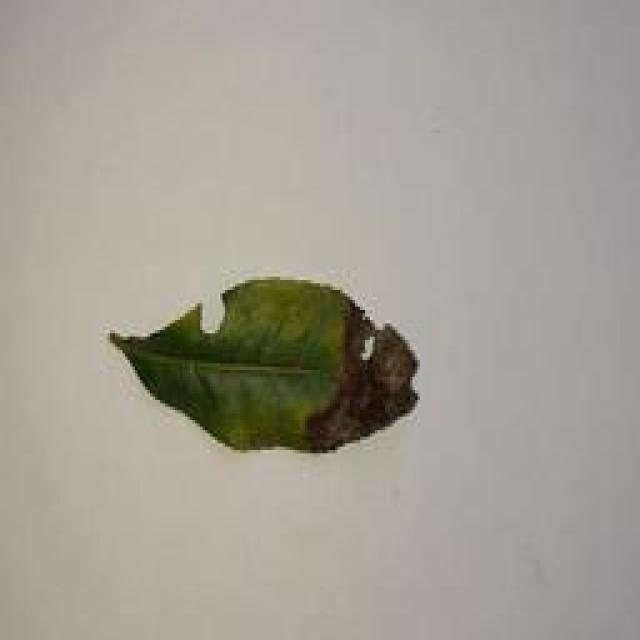Brown Blight: (105, 277, 428, 463)
